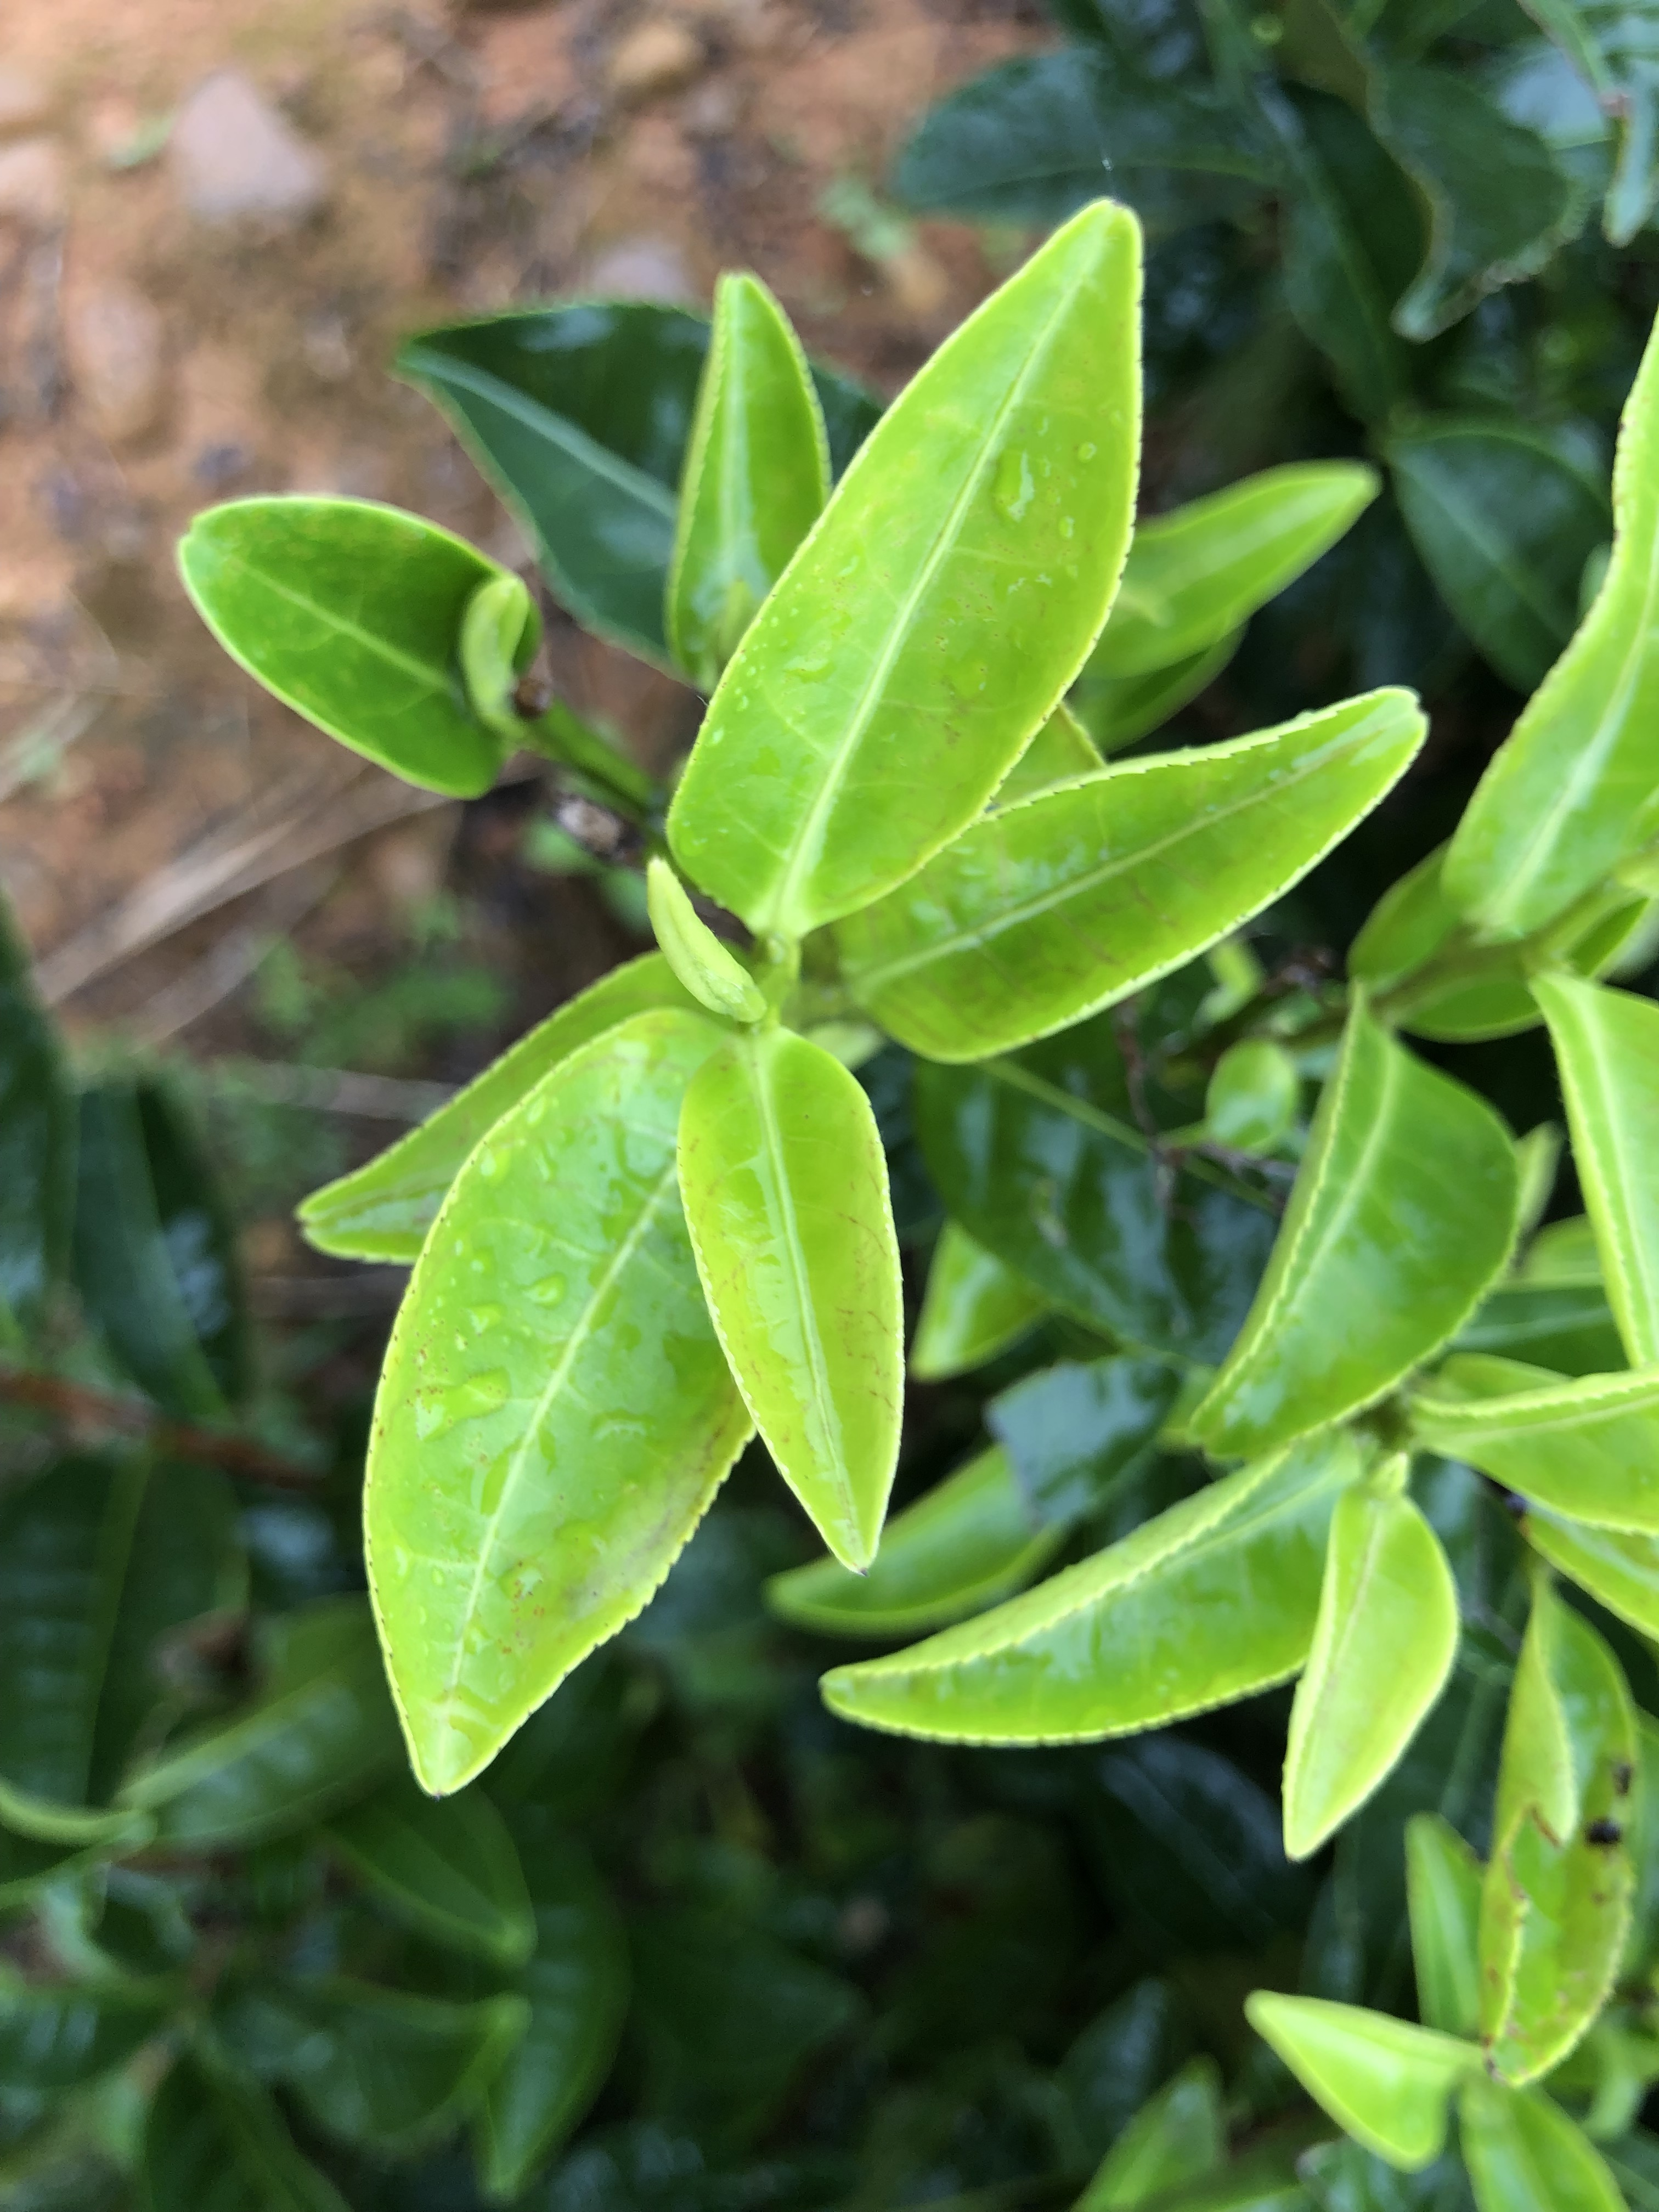formosa: (660, 1022, 911, 1557)
mosquito_late: (1464, 1580, 1633, 2107)
